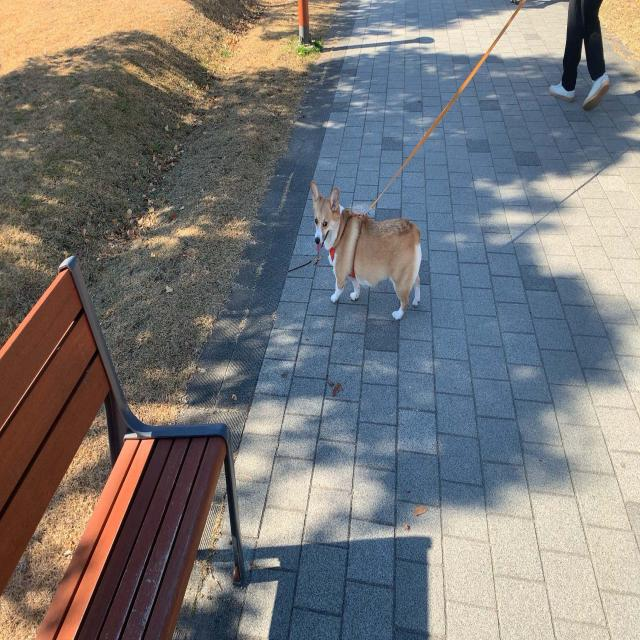Dog: (310, 180, 423, 322)
